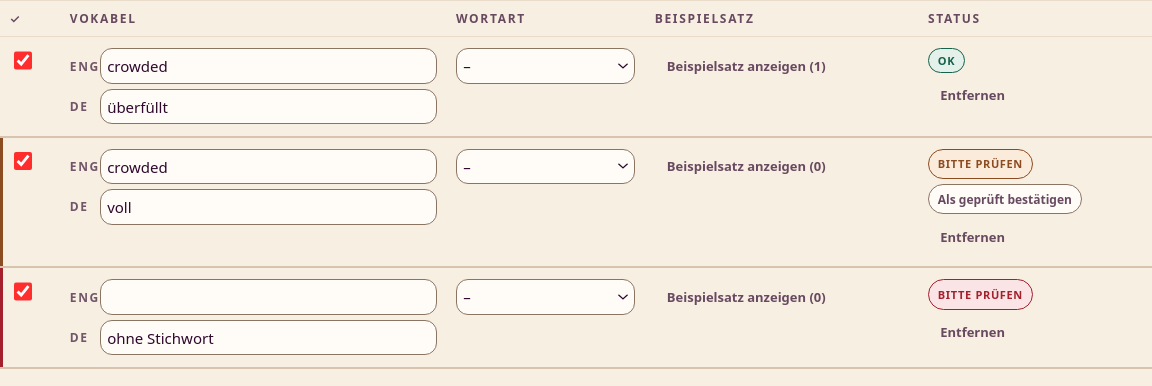
Test case: DraftTable – Grundzeile › kennzeichnet fehlende Stichwörter als Fehler
# Seit 4B.5 liegt der Grund hinter der Statusplakette, nicht unter dem Feld.
Click the 2nd button "Bitte prüfen": (980, 295) [928,280,1033,310]
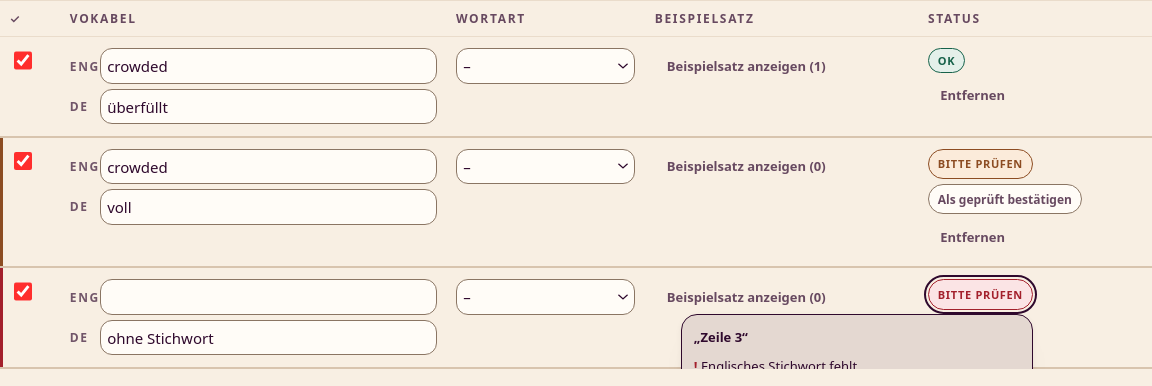
Result: the list item "Englisches Stichwort fehlt." is shown at [701,357,861,369]
